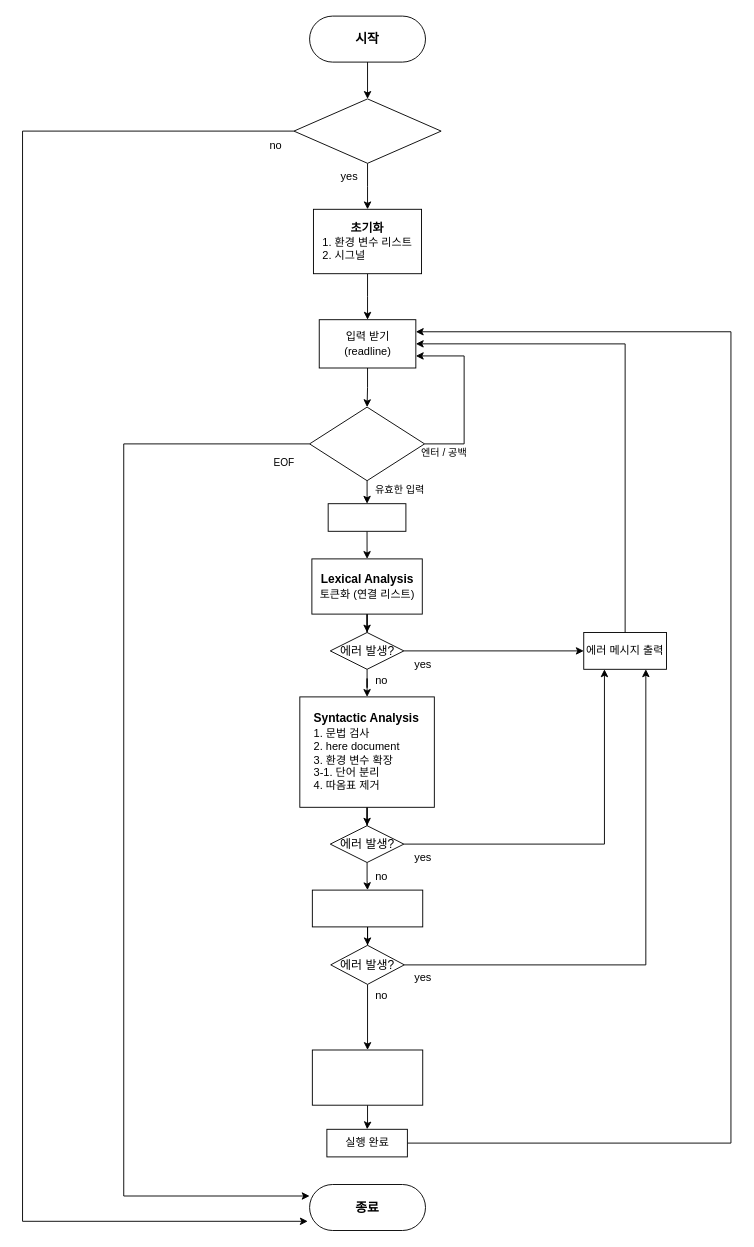
Some shapes in this 754 by 1247 pixel diagram are drawn without their labels. The centre of each missing label's shape, as x and y in pixels:
"명령어 실행" goes at (367,1077).
"유효한 입력? EOF? 엔터 / 공백?" goes at (367,443).
"인자가 한 개인가?" goes at (367,130).
"파스 트리 구성 (AST)" goes at (367,908).
"파싱" goes at (366,517).
